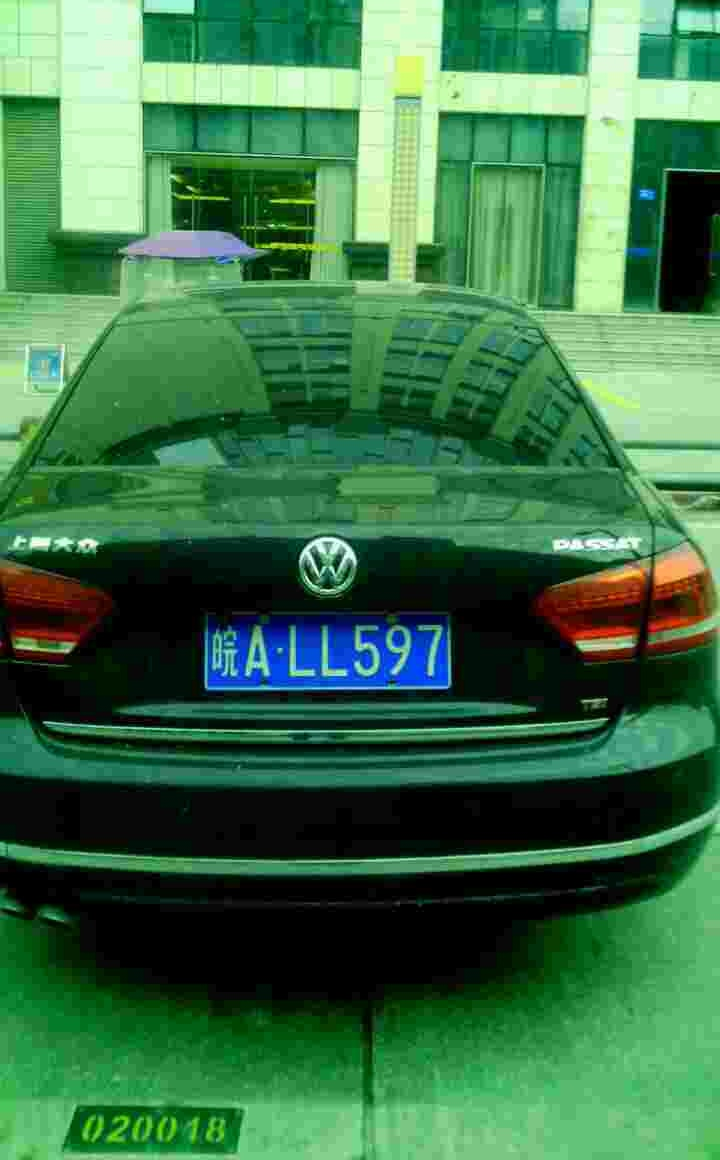plate: (206, 608, 457, 693)
